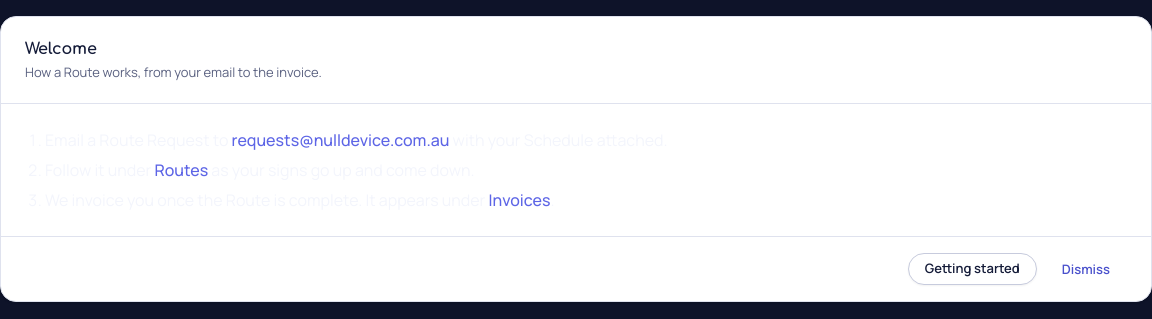
Test: WelcomeCard › comes back with a message when the dismissal can't be saved
The image size is (1152, 319).
Click the button "Dismiss". click: (1086,269)
box: [1045,253,1127,285]
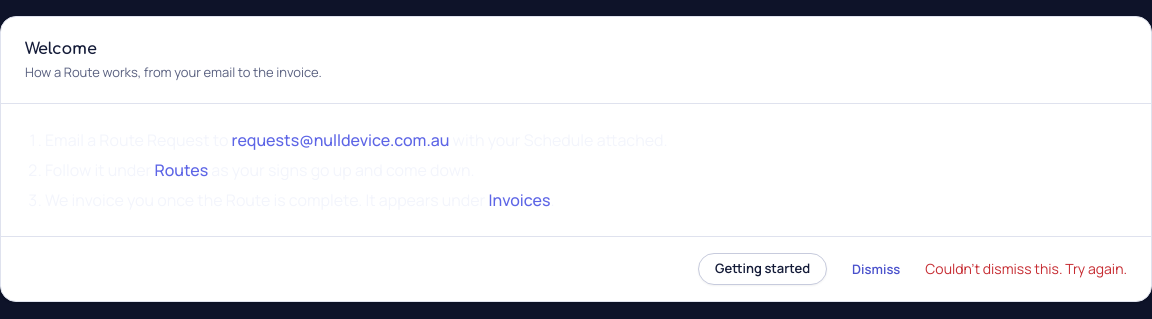
Check: the message reads "Couldn't dismiss this. Try again.", box [925,259,1127,278]
